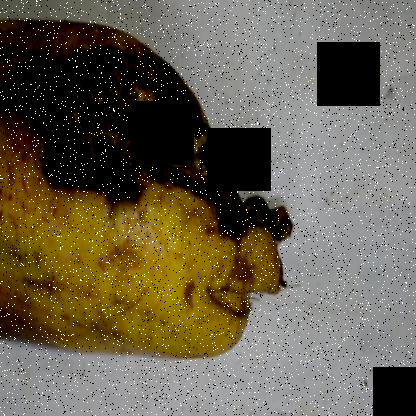rotten: (0, 23, 310, 330)
